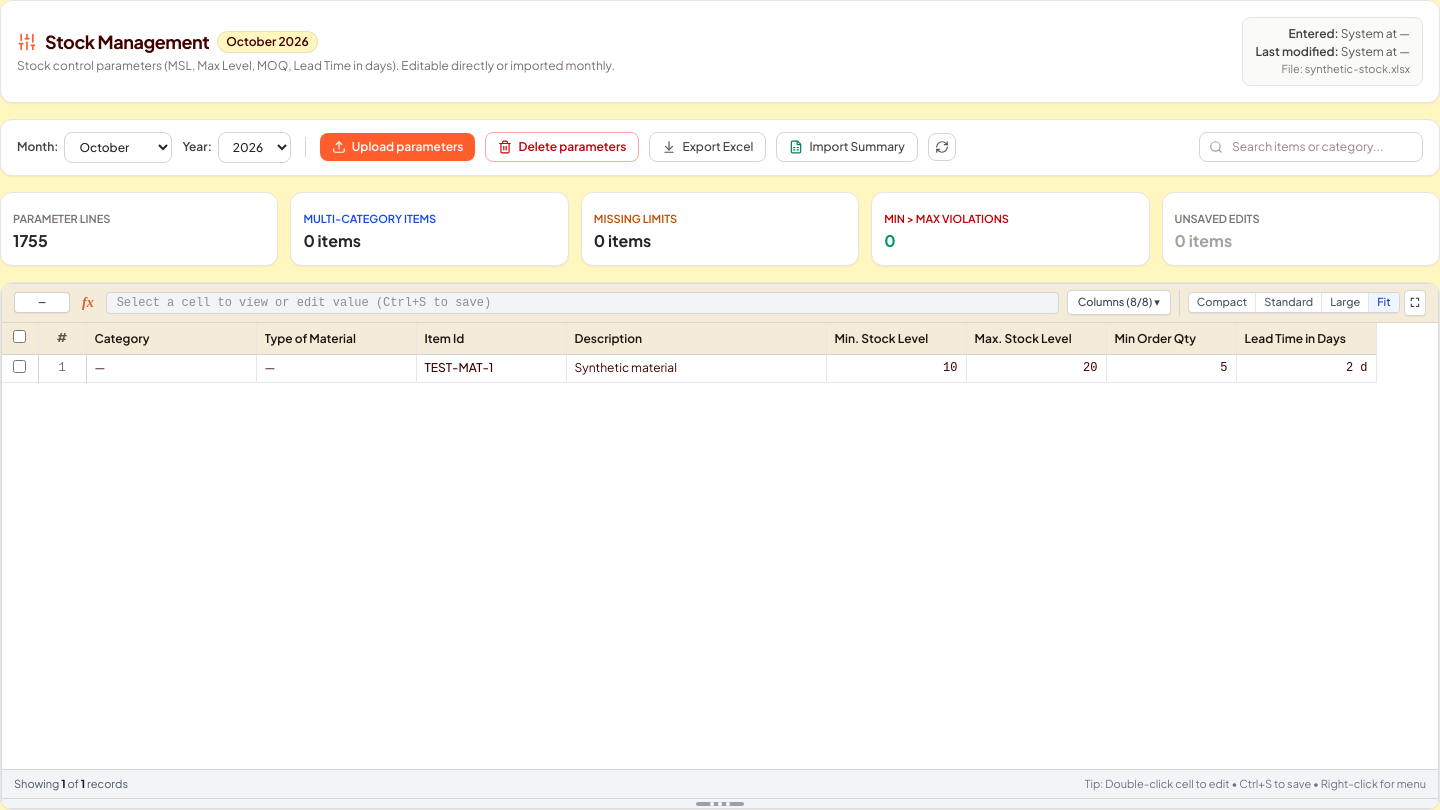
deletes only the captured month and year after reason and confirmation, including filtered rows
Click the button "Delete parameters". click: (562, 147)
box: [486,132,640,162]
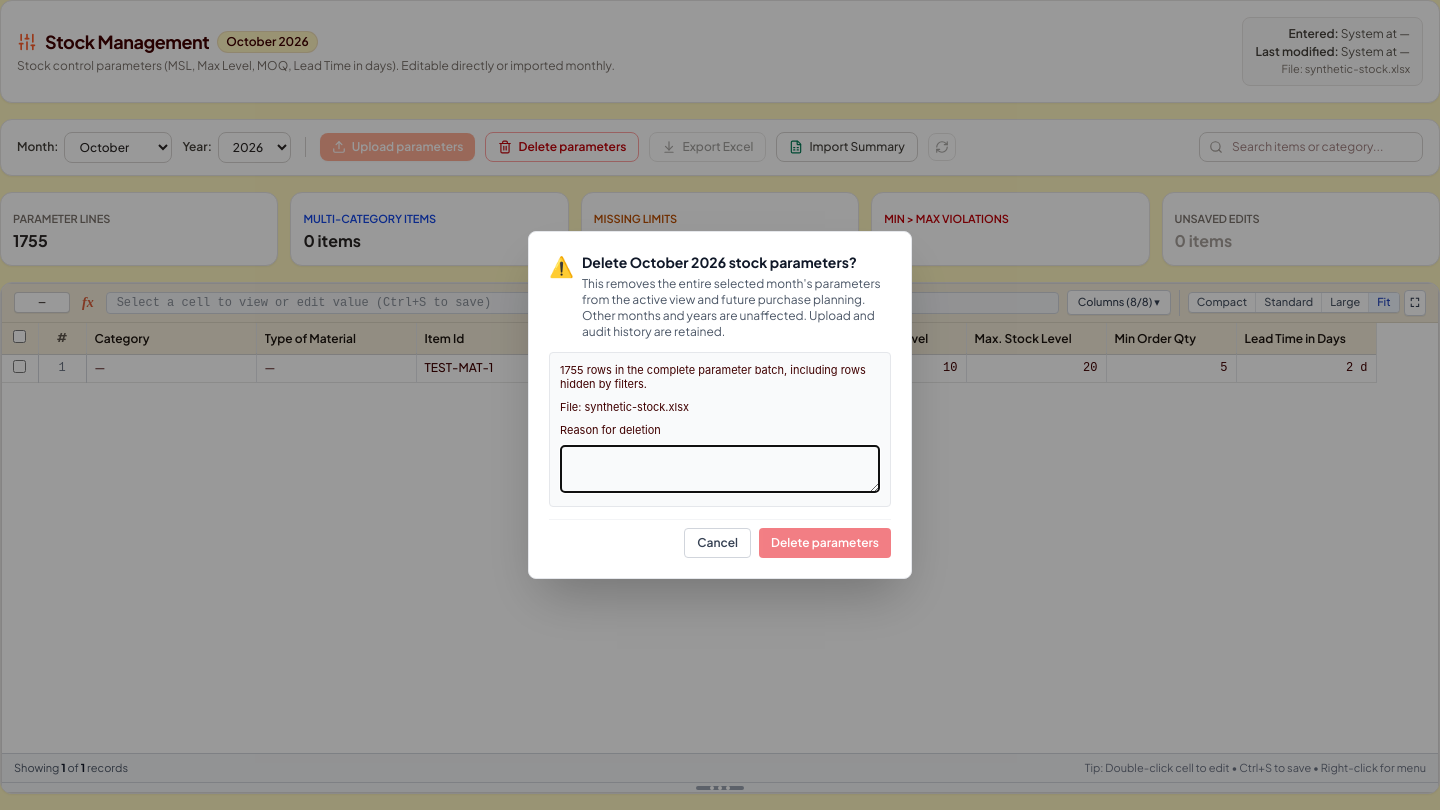
Now the button "Delete parameters" is disabled, box [759,528,891,558]
Now the text "1755 rows in the complete parameter batch" is shown, box [560,363,880,392]
Now the dropdown named "Parameters month" is disabled, box [64,132,172,163]
Type " Wrong period " into the text box labelled "Reason for deletion". click: (720, 469)
box: [560,445,880,493]
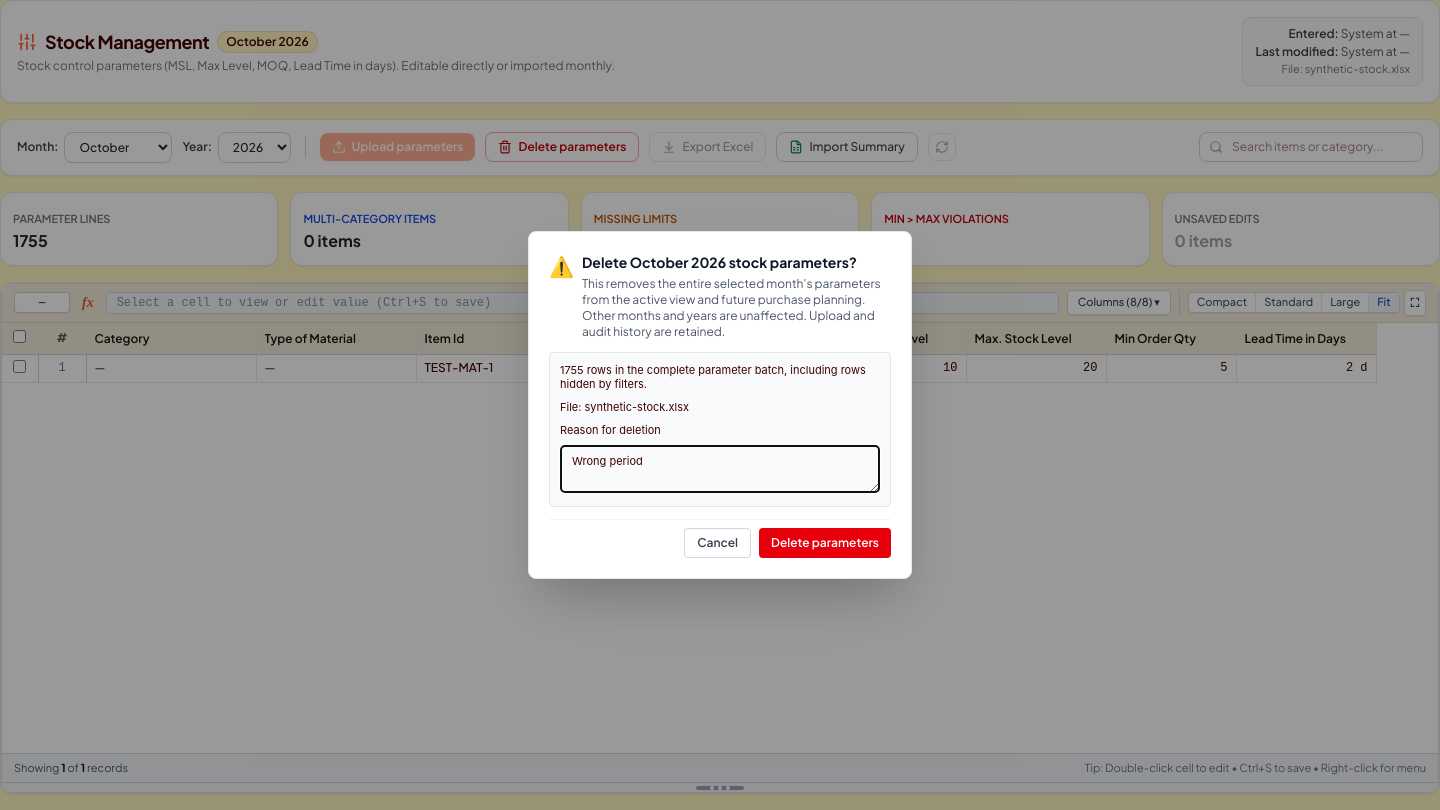
Click the button "Delete parameters". click: (825, 543)
box: [759,528,891,558]
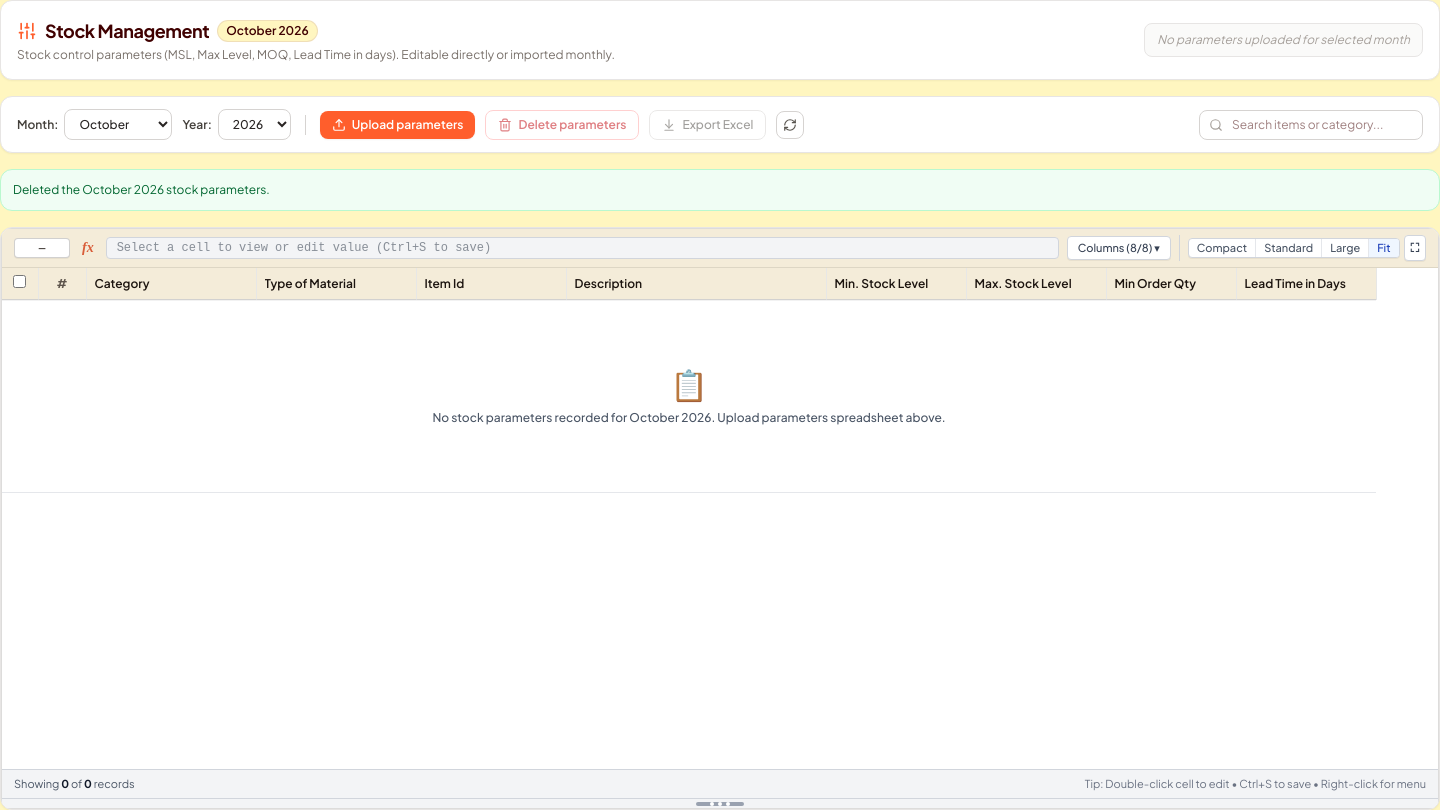
Now the text "Deleted the October 2026 stock parameters." is shown, box [0,169,1439,211]
Now the text "TEST-MAT-1" is gone
Now the button "Delete parameters" is disabled, box [486,110,640,140]
Select "2025" in the dropdown named "Parameters year". click: (254, 124)
box: [218,109,291,140]
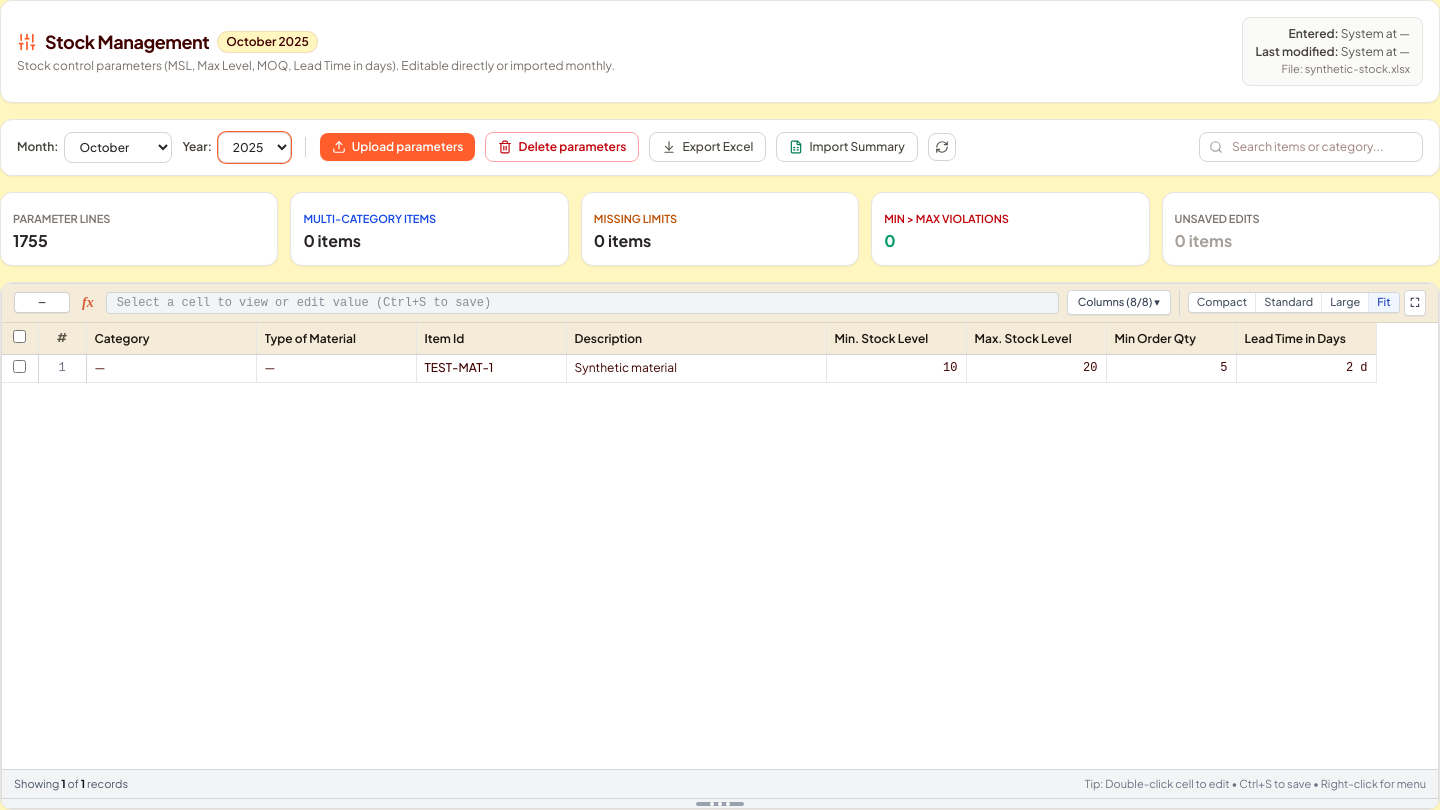
Now the text "TEST-MAT-1" is shown, box [424,360,493,376]
